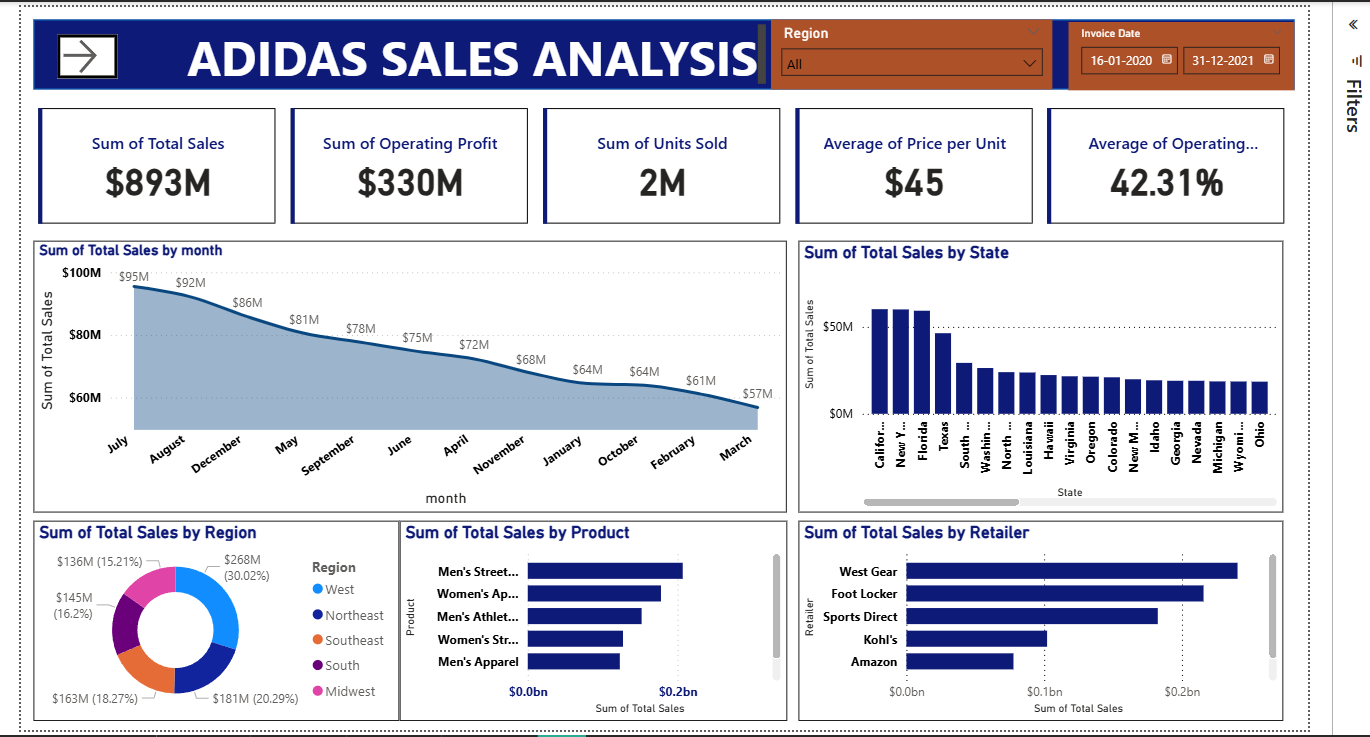

What the dashboard file says about the page in this screenshot:
{"tool":"powerbi","page":{"name":"Page 1","canvas":[1280,720],"ordinal":0},"visuals":[{"type":"shape","box":[13,13,1254.9,69.6],"z":0},{"type":"textbox","box":[160.3,13,586.2,71.2],"z":1000},{"type":"cardVisual","fields":{"Data":["Sum(Data Sales Adidas.Total Sales)","Sum(Data Sales Adidas.Operating Profit)","Sum(Data Sales Adidas.Units Sold)","Avg(Data Sales Adidas.Price per Unit)","Avg(Data Sales Adidas.Operating Margin)"]},"box":[13,95.5,1254.9,125],"z":2000},{"type":"areaChart","fields":{"Y":["Sum(Data Sales Adidas.Total Sales)"],"Category":["Data Sales Adidas.month"]},"box":[13,233.2,749.7,270.4],"z":3000},{"type":"clusteredColumnChart","fields":{"Category":["Data Sales Adidas.State"],"Y":["Sum(Data Sales Adidas.Total Sales)"]},"box":[774,233.2,482.5,270.4],"z":4000},{"type":"donutChart","fields":{"Category":["Data Sales Adidas.Region"],"Y":["Sum(Data Sales Adidas.Total Sales)"]},"box":[13,511.7,364.3,199.2],"z":5000},{"type":"clusteredBarChart","fields":{"Category":["Data Sales Adidas.Product"],"Y":["Sum(Data Sales Adidas.Total Sales)"]},"box":[377.3,511.7,385.4,199.2],"z":6000},{"type":"clusteredBarChart","fields":{"Category":["Data Sales Adidas.Retailer"],"Y":["Sum(Data Sales Adidas.Total Sales)"]},"box":[774,511.7,482.5,199.2],"z":7000},{"type":"slicer","fields":{"Values":["Data Sales Adidas.Region"]},"box":[746.5,13,280.1,69.6],"z":8000},{"type":"slicer","fields":{"Values":["Data Sales Adidas.Invoice Date"]},"box":[1042.8,14.6,225.1,68],"z":9000},{"type":"actionButton","box":[35.6,27.5,59.9,43.7],"z":9001}]}

Visuals, with their boxes in screenshot pixels (x1, y1, x2, y2):
shape: pyautogui.locateOnScreen(27, 17, 1297, 87)
textbox: pyautogui.locateOnScreen(176, 17, 769, 89)
cardVisual - Sum(Data Sales Adidas.Total Sales) x Sum(Data Sales Adidas.Operating Profit): pyautogui.locateOnScreen(27, 100, 1297, 227)
areaChart - Sum(Data Sales Adidas.Total Sales) x Data Sales Adidas.month: pyautogui.locateOnScreen(27, 239, 786, 513)
clusteredColumnChart - Data Sales Adidas.State x Sum(Data Sales Adidas.Total Sales): pyautogui.locateOnScreen(797, 239, 1285, 513)
donutChart - Data Sales Adidas.Region x Sum(Data Sales Adidas.Total Sales): pyautogui.locateOnScreen(27, 521, 396, 723)
clusteredBarChart - Data Sales Adidas.Product x Sum(Data Sales Adidas.Total Sales): pyautogui.locateOnScreen(396, 521, 786, 723)
clusteredBarChart - Data Sales Adidas.Retailer x Sum(Data Sales Adidas.Total Sales): pyautogui.locateOnScreen(797, 521, 1285, 723)
slicer - Data Sales Adidas.Region: pyautogui.locateOnScreen(769, 17, 1053, 87)
slicer - Data Sales Adidas.Invoice Date: pyautogui.locateOnScreen(1069, 18, 1297, 87)
actionButton: pyautogui.locateOnScreen(50, 31, 111, 76)
